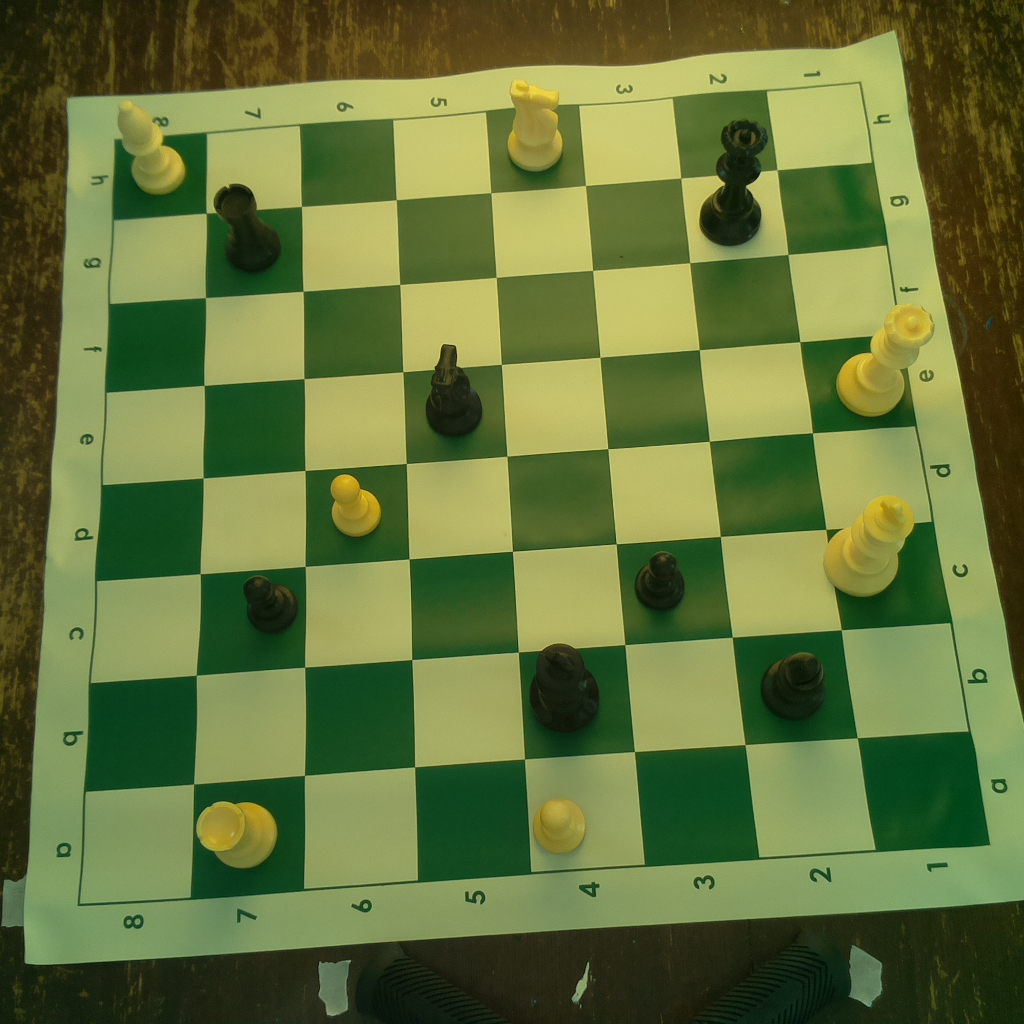black_bishop: (759, 645, 829, 721)
black_king: (524, 639, 603, 732)
black_knight: (414, 341, 488, 445)
black_pawn: (238, 567, 302, 636), (627, 545, 690, 613)
black_queen: (699, 117, 767, 248)
black_rook: (208, 182, 288, 275)
file_a: (76, 731, 989, 904)
file_b: (84, 621, 972, 792)
file_c: (90, 521, 953, 683)
file_d: (98, 425, 933, 583)
file_e: (102, 336, 915, 484)
file_f: (103, 245, 903, 392)
file_g: (108, 162, 888, 304)
file_h: (115, 86, 871, 221)
outline: (76, 83, 994, 908)
rank_1: (767, 83, 993, 851)
rank_2: (675, 88, 876, 858)
rank_3: (580, 97, 760, 867)
rank_4: (486, 101, 647, 871)
rank_5: (392, 110, 529, 883)
rank_6: (301, 121, 419, 887)
rank_7: (190, 123, 301, 899)
rank_8: (75, 134, 207, 904)
white_bishop: (110, 95, 188, 195)
white_king: (820, 482, 916, 604)
white_knight: (501, 75, 571, 178)
white_pawn: (529, 791, 592, 858), (324, 469, 384, 535)
white_queen: (827, 296, 938, 421)
white_rook: (184, 791, 286, 871)
